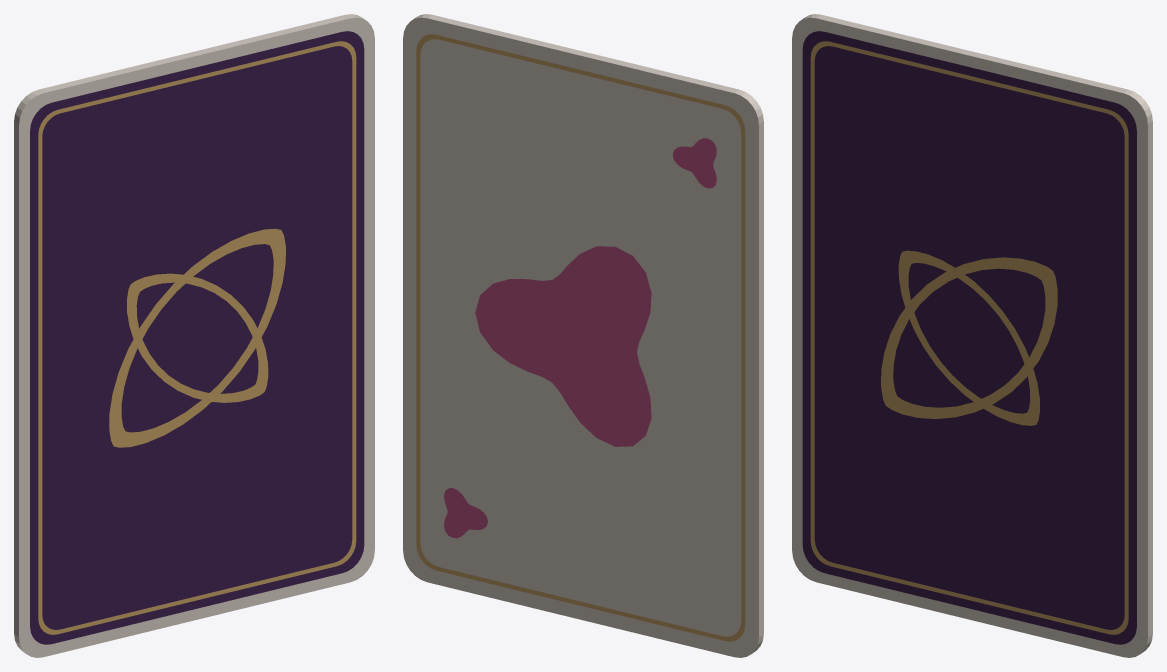
Rendered from card-petal.glb.
The picture shows the model from 3 angles, left to right: view 1: azimuth 30°, elevation 25°; view 2: azimuth 150°, elevation 25°; view 3: azimuth 330°, elevation 25°; orthographic projection.
Visible parts, largest first — view 1: card_petal; view 2: card_petal; view 3: card_petal.
Boxes of the visible parts, box(x1,y1,x2,y2) form: card_petal: box(14, 14, 374, 657); card_petal: box(403, 14, 763, 657); card_petal: box(792, 14, 1152, 657).
Size of the model in its own units: 0.66 by 1 by 0.02.
